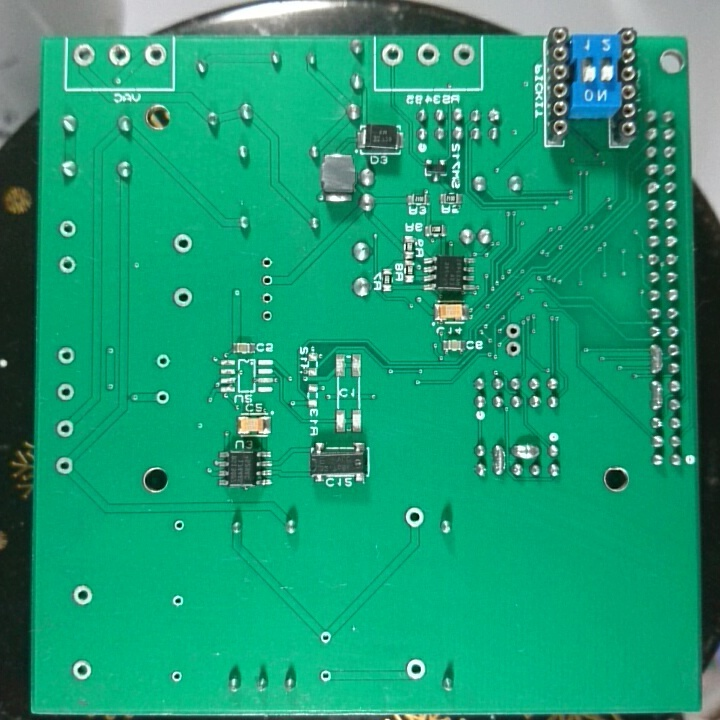F: (448, 41, 479, 70), (105, 40, 133, 69), (379, 41, 408, 69), (169, 229, 196, 257), (413, 42, 442, 68), (69, 581, 95, 609), (142, 41, 168, 69), (400, 504, 427, 530), (71, 655, 95, 684), (71, 42, 97, 68), (405, 655, 428, 684), (51, 453, 77, 478), (170, 285, 197, 309), (55, 252, 80, 277), (54, 343, 78, 369), (55, 217, 80, 241), (53, 416, 76, 440), (51, 380, 77, 401), (152, 351, 174, 373), (166, 666, 187, 689), (502, 339, 524, 360), (315, 626, 334, 649), (502, 321, 523, 341), (257, 272, 279, 289), (257, 254, 278, 271), (153, 389, 172, 407), (317, 666, 334, 686), (171, 515, 188, 535), (168, 592, 186, 610), (257, 289, 276, 306), (259, 307, 276, 325)
P: (645, 379, 666, 412), (490, 441, 509, 477), (647, 340, 666, 376), (509, 440, 543, 460)
